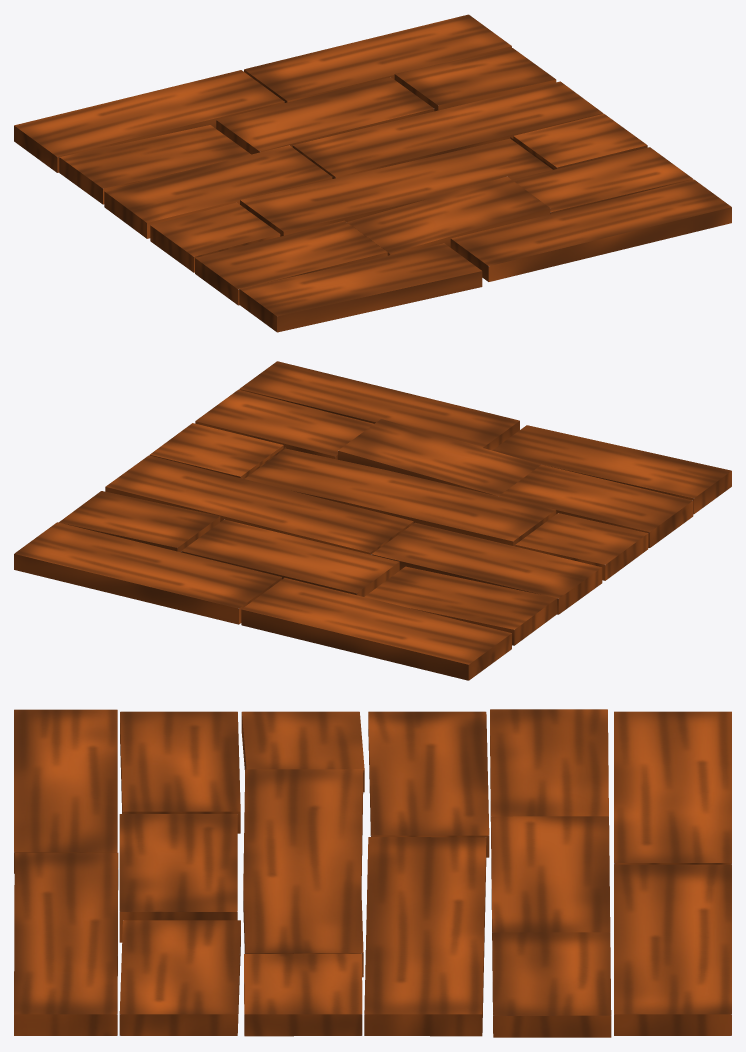
The model's file is chão madeira.fbx.
3 renders of one model, top to bottom at view 1: azimuth 30°, elevation 25°; view 2: azimuth 150°, elevation 25°; view 3: azimuth 270°, elevation 25°, orthographic. The views are drawn at different scales.
Parts seen in each view (by area): view 1: CHAO.007; view 2: CHAO.007; view 3: CHAO.007.
Part boxes in pixels (bbox=[...]): CHAO.007: bbox=[14, 14, 731, 332]; CHAO.007: bbox=[14, 361, 731, 680]; CHAO.007: bbox=[14, 709, 731, 1037].
Size of the model in its own units: 100 by 5.22 by 100.
1 material, 1 textured.
